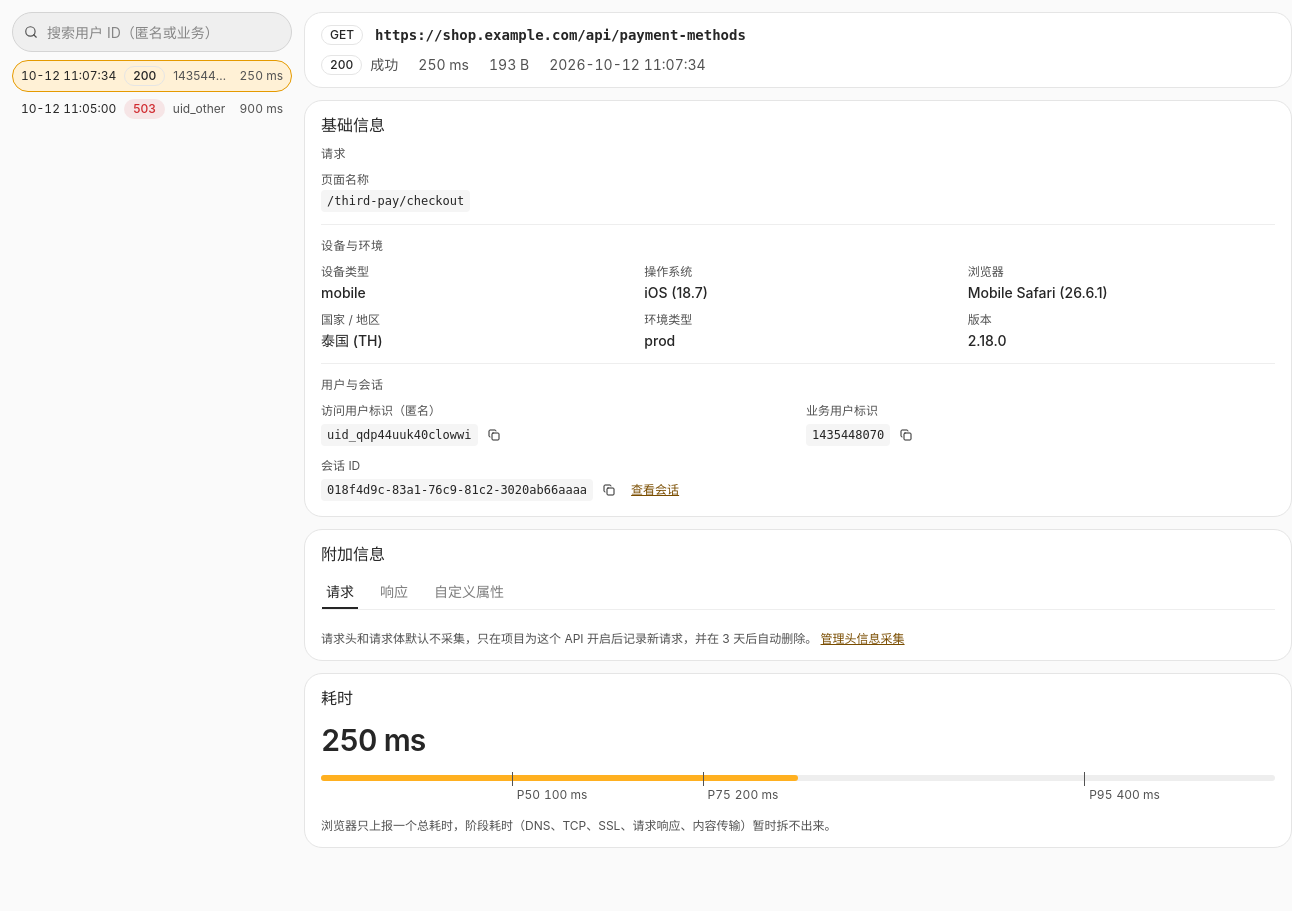
Test: ApiSamples › searches by user ID once typing pauses, and reopens the first match
Expected: the list named "请求列表" is shown, left=12, top=60, right=292, bottom=125
Type "u" into the search field named "按用户 ID 搜索请求" at point(152, 32), box left=12, top=12, right=292, bottom=52
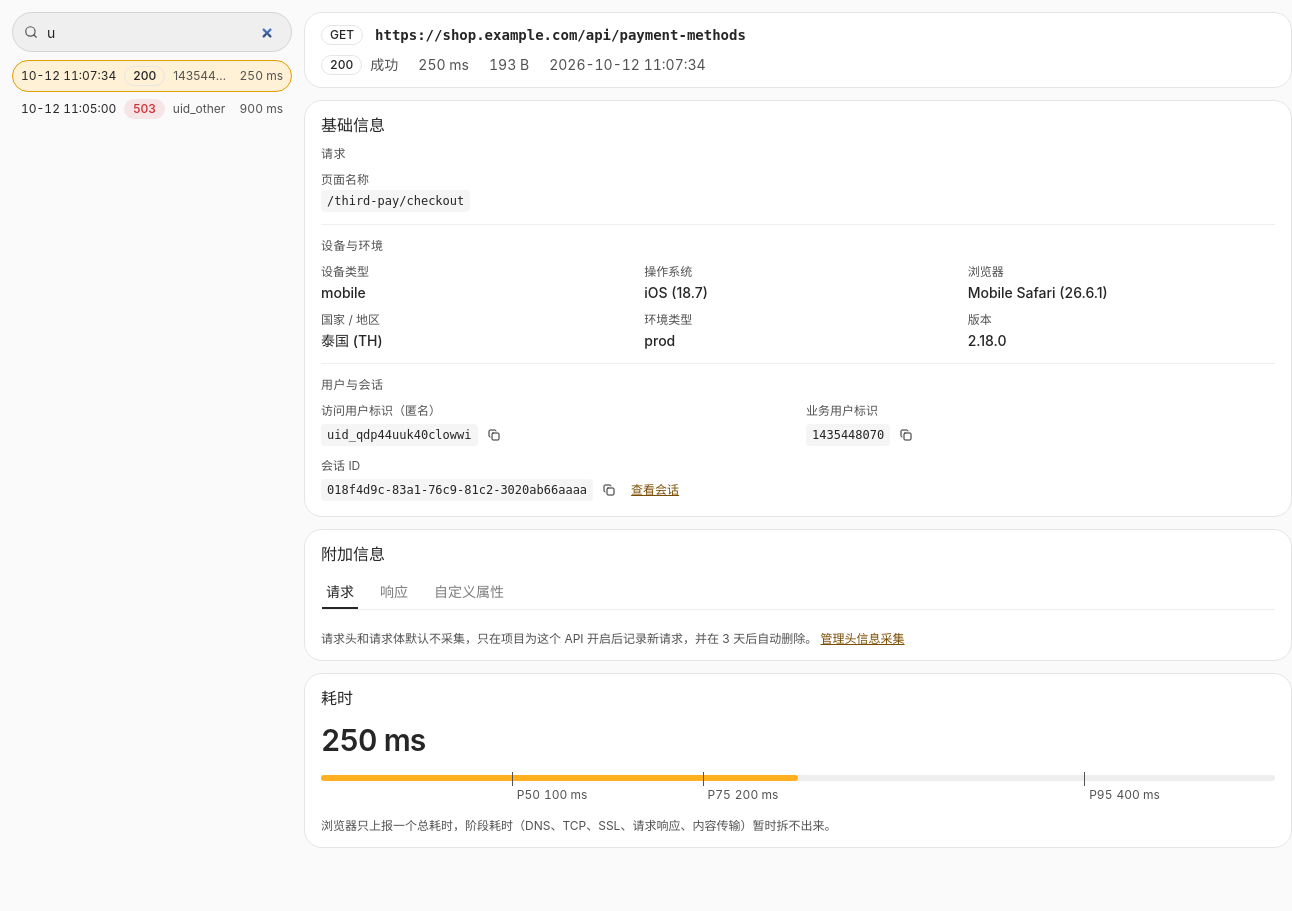
Replace the text in the search field named "按用户 ID 搜索请求" with "uid_oth" at point(152, 32), box left=12, top=12, right=292, bottom=52
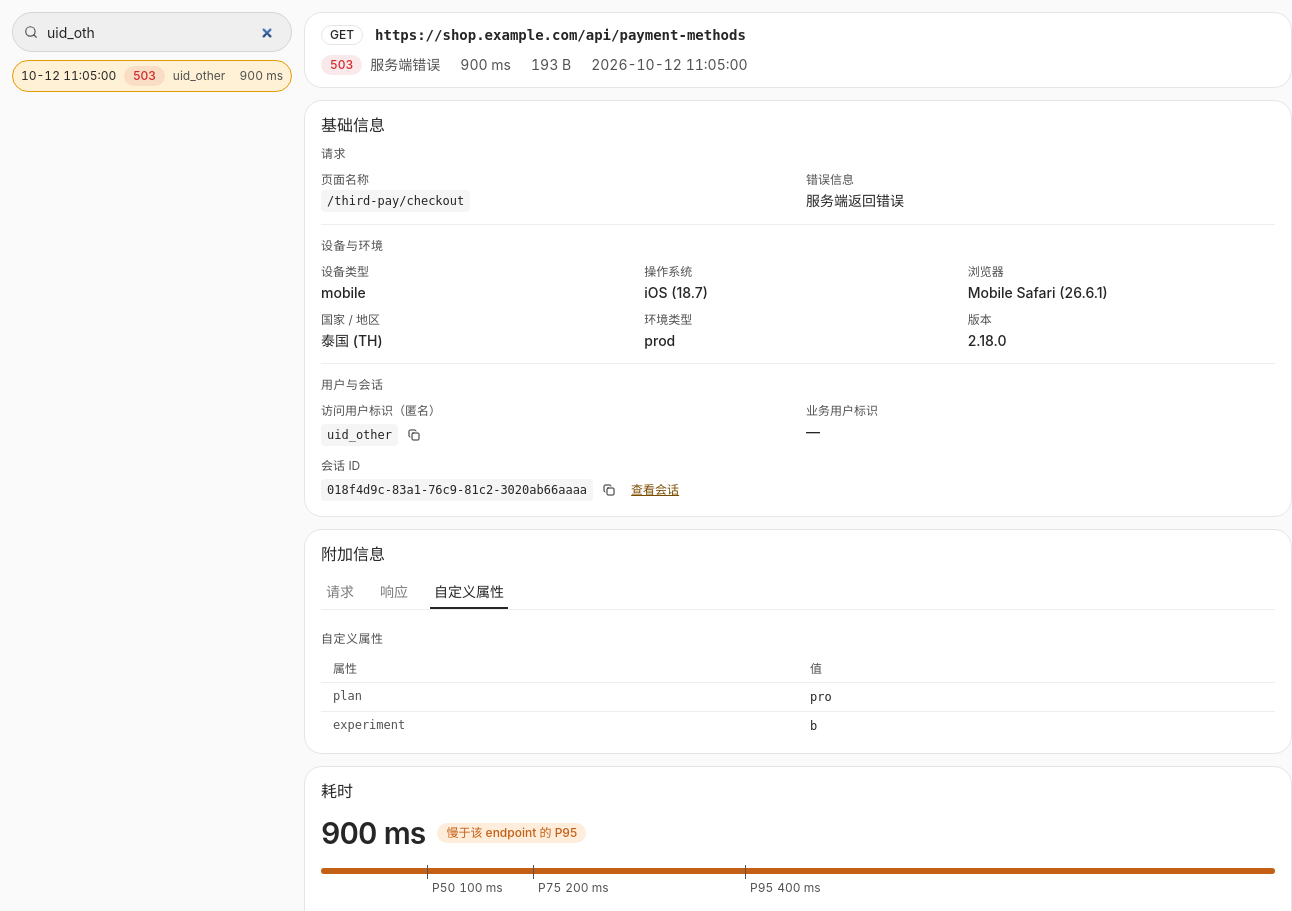
Now the number of buttons "10-12 11:05:00 503 uid_other 900 ms" is 1, box left=12, top=60, right=292, bottom=92
Now the text "服务端错误" is shown, box left=370, top=54, right=440, bottom=75
